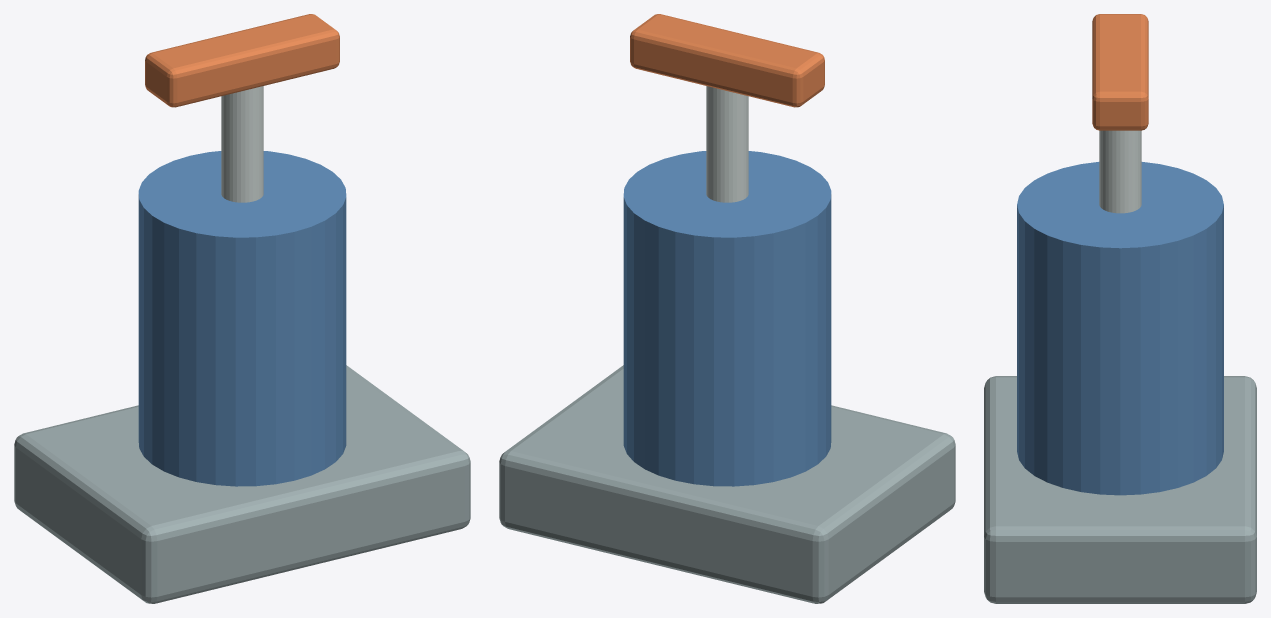
Rendered from pump.glb.
The picture shows the model from 3 angles, left to right: view 1: azimuth 30°, elevation 25°; view 2: azimuth 150°, elevation 25°; view 3: azimuth 270°, elevation 25°; orthographic projection.
Visible parts, largest first — view 1: Pump_Chamber, Pump_Base, Pump_Grip, Pump_Handle_Rod; view 2: Pump_Chamber, Pump_Base, Pump_Grip, Pump_Handle_Rod; view 3: Pump_Chamber, Pump_Base, Pump_Grip, Pump_Handle_Rod.
Part boxes in pixels (left/top/right/bottom): Pump_Chamber: left=138, top=151, right=346, bottom=486; Pump_Base: left=14, top=365, right=470, bottom=603; Pump_Grip: left=145, top=14, right=339, bottom=107; Pump_Handle_Rod: left=221, top=86, right=263, bottom=202; Pump_Chamber: left=623, top=151, right=831, bottom=486; Pump_Base: left=499, top=365, right=955, bottom=603; Pump_Grip: left=630, top=14, right=824, bottom=107; Pump_Handle_Rod: left=706, top=86, right=748, bottom=202; Pump_Chamber: left=1017, top=162, right=1223, bottom=495; Pump_Base: left=984, top=376, right=1256, bottom=603; Pump_Grip: left=1092, top=14, right=1148, bottom=130; Pump_Handle_Rod: left=1099, top=130, right=1141, bottom=213.
Size of the model in its own units: 0.8 by 1.12 by 0.58.
